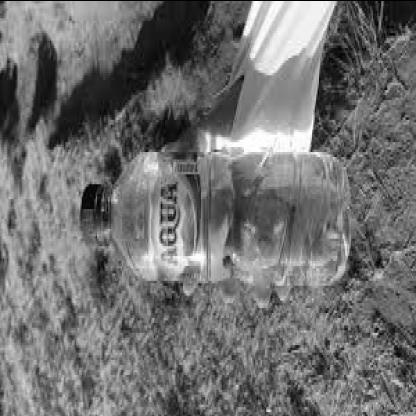plastic_bottles: (82, 146, 350, 288)
